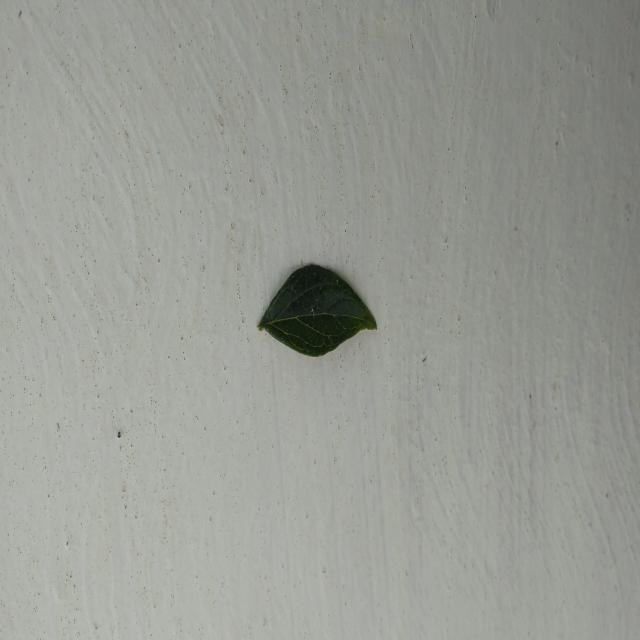leaf: (256, 262, 377, 357)
